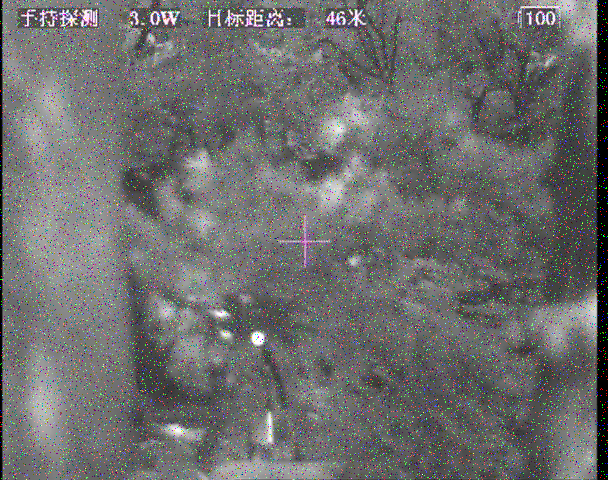my: (250, 330, 265, 347)
